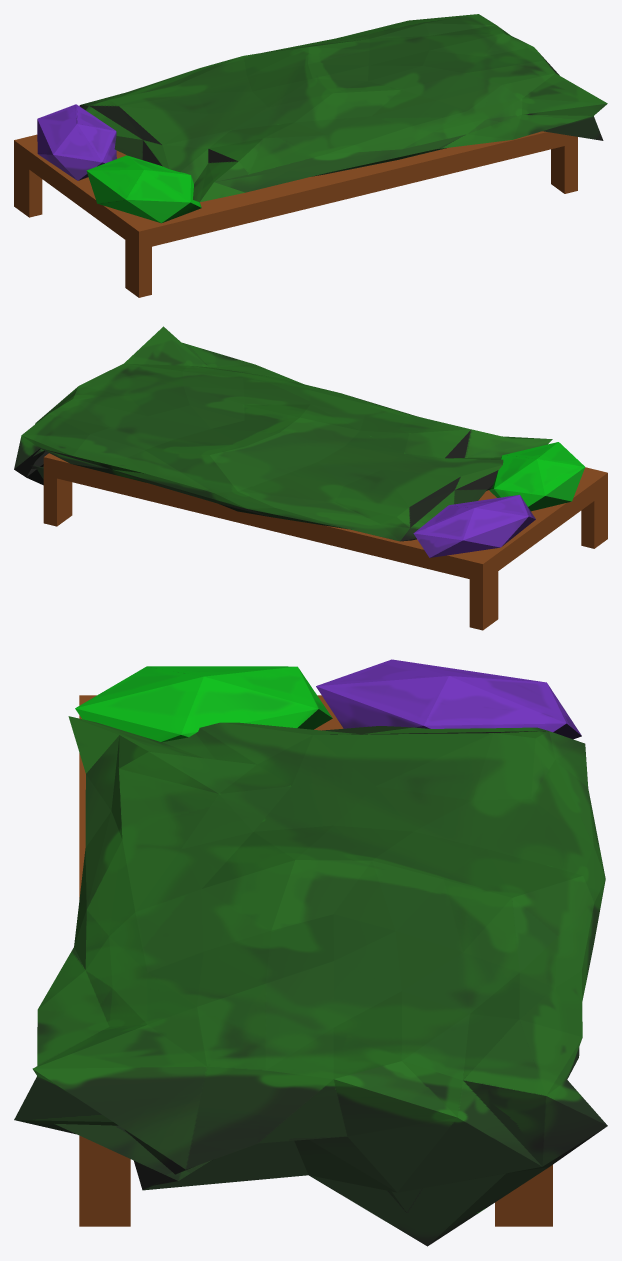
File: bed.fbx
3 renders of one model, top to bottom at view 1: azimuth 30°, elevation 25°; view 2: azimuth 150°, elevation 25°; view 3: azimuth 270°, elevation 25°, orthographic. The views are drawn at different scales.
Visible parts, largest first — view 1: Duvet, Cube, Left Pillow, Right Pillow; view 2: Duvet, Cube, Right Pillow, Left Pillow; view 3: Duvet, Left Pillow, Right Pillow, Cube.
Part boxes in pixels (x1,y1,x2,y2): Duvet: (79, 14, 607, 202); Cube: (14, 131, 577, 297); Left Pillow: (86, 155, 201, 223); Right Pillow: (37, 104, 116, 180); Duvet: (14, 326, 552, 541); Cube: (43, 453, 607, 630); Right Pillow: (413, 495, 535, 557); Left Pillow: (489, 442, 585, 511); Duvet: (14, 716, 607, 1246); Left Pillow: (75, 666, 332, 742); Right Pillow: (316, 659, 581, 739); Cube: (79, 695, 552, 1226).
Bounding box in the file's own units: 220 × 44.35 × 124.
4 materials, 4 textured.
